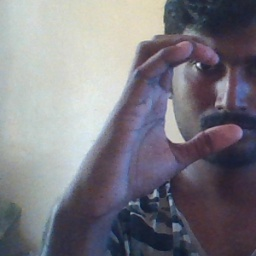C: (123, 28, 245, 164)
